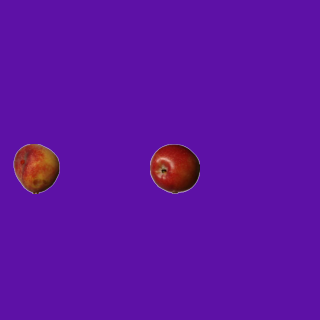Apple Braeburn: (149, 143, 199, 193)
Peach: (11, 143, 61, 193)
